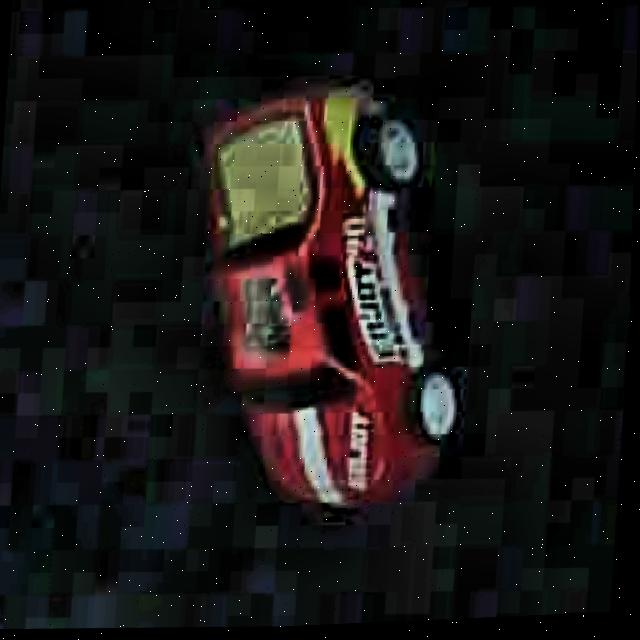car: (166, 65, 519, 535)
